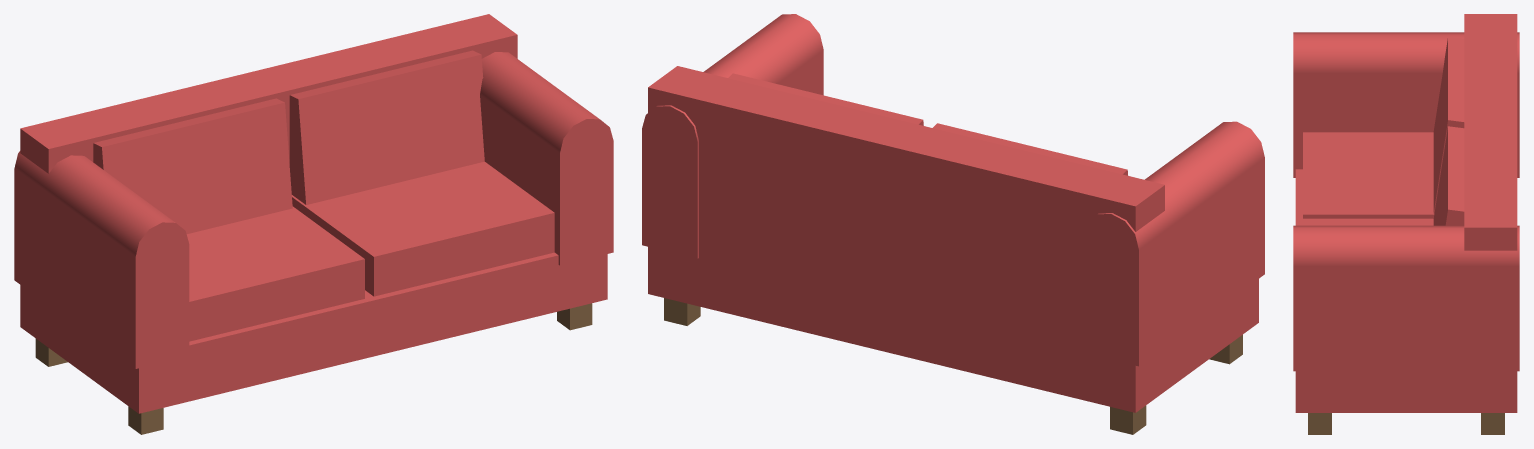
The model's file is sofa_leather_red.glb.
The picture shows the model from 3 angles, left to right: view 1: azimuth 30°, elevation 25°; view 2: azimuth 150°, elevation 25°; view 3: azimuth 270°, elevation 25°; orthographic projection. The views are drawn at different scales.
Parts seen in each view (by area): view 1: sofa_leather_red; view 2: sofa_leather_red; view 3: sofa_leather_red.
Part boxes in pixels (<box>): sofa_leather_red: <box>14,14,613,434</box>; sofa_leather_red: <box>642,14,1264,434</box>; sofa_leather_red: <box>1293,14,1519,434</box>.
Size of the model in its own units: 2.14 by 0.97 by 0.94.
